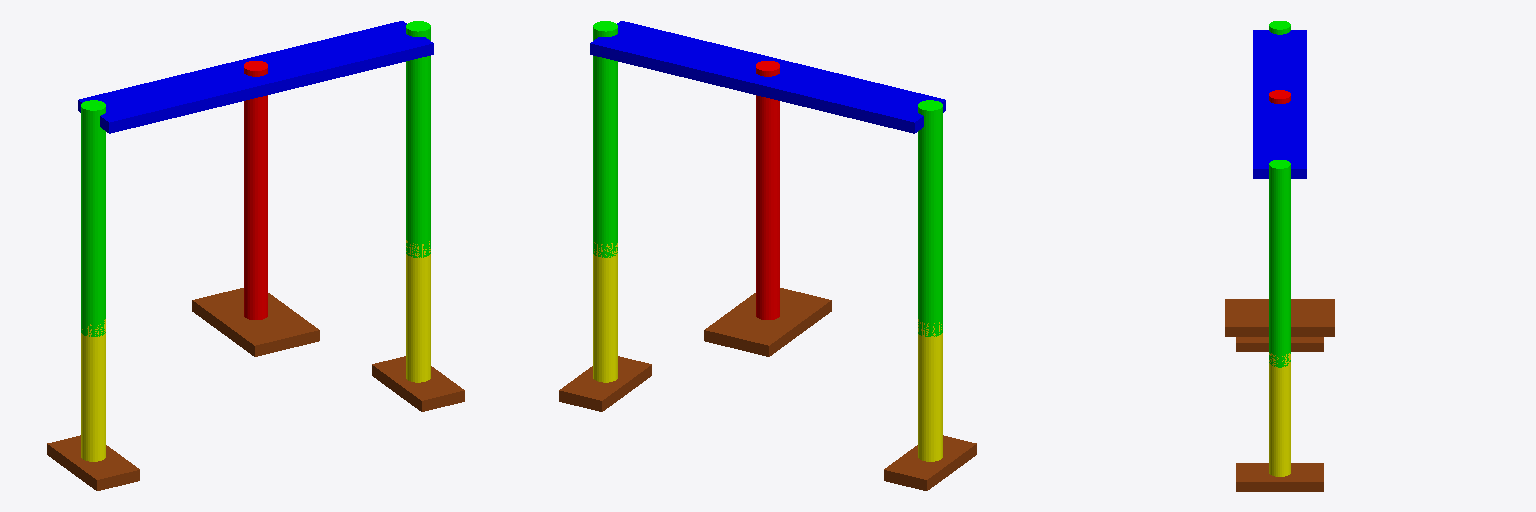
robot.urdf — better_tripedal_robot:
<?xml version="1.0" ?>
<robot name="better_tripedal_robot">

  <!-- Base link -->
  <link name="base_link">
    <inertial>
      <origin xyz="0 0 0" rpy="0 0 0"/>
      <mass value="0.5"/>
      <inertia ixx="0.1" ixy="0" ixz="0" iyy="0.1" iyz="0" izz="0.1"/>
    </inertial>
    <collision>
      <geometry>
        <box size="0.6 0.1 0.02"/>
      </geometry>
    </collision>
    <visual>
      <origin xyz="0 0 0.18" rpy="0 0 0"/>
      <geometry>
        <box size="0.6 0.1 0.02"/>
      </geometry>
      <material name="blue"/>
    </visual>
  </link>

  <!-- Define materials -->
  <material name="blue">
    <color rgba="0 0 1 1"/>
  </material>
  <material name="green">
    <color rgba="0 1 0 1"/>
  </material>
  <material name="yellow">
    <color rgba="1 1 0 1"/>
  </material>
  <material name="red">
    <color rgba="1 0 0 1"/>
  </material>
  <material name="brown">
    <color rgba="0.6 0.3 0.1 1"/>
  </material>

  <!-- Outer Left Leg -->
  <link name="left_leg_upper">
    <inertial>
      <origin xyz="0 0 0" rpy="0 0 0"/>
      <mass value="0.3"/>
      <inertia ixx="0.005" ixy="0" ixz="0.005" iyy="0.005" iyz="0" izz="0.005"/>
    </inertial>
    <collision>
      <geometry>
        <cylinder radius="0.02" length="0.4"/>
      </geometry>
    </collision>
    <visual>
      <geometry>
        <cylinder radius="0.02" length="0.4"/>
      </geometry>
      <material name="green"/>
    </visual>
  </link>

  <link name="left_leg_lower">
    <inertial>
      <origin xyz="0 0 -0.18" rpy="0 0 0"/> <!-- Adjusted to position the lower leg relative to upper leg -->
      <mass value="0.3"/>
      <inertia ixx="0.005" ixy="0" ixz="0.005" iyy="0.005" iyz="0" izz="0.005"/>
    </inertial>
    <collision>
      <geometry>
        <cylinder radius="0.02" length="0.4"/>
      </geometry>
    </collision>
    <visual>
     <origin xyz="0 0 -0.1" rpy="0 0 0"/> 
      <geometry>
        <cylinder radius="0.02" length="0.25"/>
      </geometry>
      <material name="yellow"/>
    </visual>
  </link>

  <joint name="left_knee" type="revolute">
    <parent link="left_leg_upper"/>
    <child link="left_leg_lower"/>
    <origin xyz="0 0 -0.2" rpy="0 0 0"/> <!-- Ensure this aligns with the lower leg's top -->
    <axis xyz="1 0 0"/>
    <limit lower="-2" upper="2" effort="10" velocity="10"/>
  </joint>

  <!-- Outer Right Leg -->
  <link name="right_leg_upper">
    <inertial>
      <origin xyz="0 0 0" rpy="0 0 0"/>
      <mass value="0.3"/>
      <inertia ixx="0.005" ixy="0" ixz="0.005" iyy="0.005" iyz="0" izz="0.005"/>
    </inertial>
    <collision>
      <geometry>
        <cylinder radius="0.02" length="0.4"/>
      </geometry>
    </collision>
    <visual>
      <geometry>
        <cylinder radius="0.02" length="0.4"/>
      </geometry>
      <material name="green"/>
    </visual>
  </link>

  <link name="right_leg_lower">
    <inertial>
      <origin xyz="0 0 -0.18" rpy="0 0 0"/> <!-- Adjusted to position the lower leg relative to upper leg -->
      <mass value="0.3"/>
      <inertia ixx="0.005" ixy="0" ixz="0.005" iyy="0.005" iyz="0" izz="0.005"/>
    </inertial>
    <collision>
      <geometry>
        <cylinder radius="0.02" length="0.4"/>
      </geometry>
    </collision>
    <visual>
     <origin xyz="0 0 -0.1" rpy="0 0 0"/> 
      <geometry>
        <cylinder radius="0.02" length="0.25"/>
      </geometry>
      <material name="yellow"/>
    </visual>
  </link>

  <joint name="right_knee" type="revolute">
    <parent link="right_leg_upper"/>
    <child link="right_leg_lower"/>
    <origin xyz="0 0 -0.2" rpy="0 0 0"/> <!-- Ensure this aligns with the lower leg's top -->
    <axis xyz="1 0 0"/>
    <limit lower="-2" upper="2" effort="10" velocity="10"/>
  </joint>


<!-- Center Leg Part 1 -->
<link name="center_leg_part1">
  <inertial>
    <origin xyz="0 0 0" rpy="0 0 0"/>
    <mass value="0.3"/>
    <inertia ixx="0.0025" ixy="0" ixz="0" iyy="0.0025" iyz="0" izz="0.0025"/>
  </inertial>
  <collision>
    <geometry>
      <cylinder radius="0.02" length="0.1"/>
    </geometry>
  </collision>
  <visual>
    <origin xyz="0 0 -.1" rpy="0 0 0"/>
    <geometry>
      <cylinder radius="0.02" length="0.4"/>
    </geometry>
    <material name="red"/>
  </visual>
</link>

<joint name="center_leg_joint1" type="revolute">
  <parent link="base_link"/>
  <child link="center_leg_part1"/>
  <origin xyz="0 0 0.1" rpy="0 0 0"/>
  <axis xyz="1 0 0"/>
  <limit lower="-1.57" upper="1.57" effort="10" velocity="10"/>
</joint>

<!-- Center Leg Part 2 -->
<link name="center_leg_part2">
  <inertial>
    <origin xyz="0 0 -0.5" rpy="0 0 0"/>
    <mass value="0.5"/>
    <inertia ixx="0.0025" ixy="0" ixz="0.0025" iyy="0.0025" iyz="0" izz="0.0025"/>
  </inertial>
  <collision>
    <geometry>
      <cylinder radius="0.02" length="0.4"/>
    </geometry>
  </collision>
  <visual>
    <geometry>
      <cylinder radius="0.02" length="0.4"/>
    </geometry>
    <material name="red"/>
  </visual>
</link>

<joint name="center_leg_joint2" type="prismatic">
  <parent link="center_leg_part1"/>
  <child link="center_leg_part2"/>
  <origin xyz="0 0 -0.15" rpy="0 0 0"/>
  <axis xyz="0 0 -0.6"/>
  <limit lower="0.0" upper="0.4" effort="10" velocity="10"/>
</joint>

  <link name="center_foot">
    <inertial>
      <origin xyz="0 0 0" rpy="0 0 0"/>
      <mass value="0.5"/>
      <inertia ixx="0.005" ixy="0" ixz="0" iyy="0.005" iyz="0" izz="0.005"/>
    </inertial>
    <collision>
      <geometry>
        <box size="0.12 0.2 0.02"/>
      </geometry>
          <surface>
      <friction>
        <ode>
          <mu>2.0</mu>
          <mu2>2.0</mu2>
        </ode>
      </friction>
      <rolling_friction>
        <ode>
"          <slip1>0.04</slip1>
"          <slip2>0.04</slip2>
        </ode>
      </rolling_friction>
    </surface>
    </collision>
    <visual>
      <geometry>
        <box size="0.12 0.2 0.02"/>
      </geometry>
      <material name="brown"/>
    </visual>
  </link>

  <!-- Feet -->
  <link name="left_foot">
    <inertial>
      <origin xyz="0 0 0" rpy="0 0 0"/>
      <mass value="0.3"/>
      <inertia ixx="0.005" ixy="0" ixz="0" iyy="0.005" iyz="0" izz="0.005"/>
    </inertial>
    <collision>
      <geometry>
        <box size="0.08 0.16 0.02"/>
      </geometry>
          <surface>
      <friction>
        <ode>
          <mu>2.0</mu>
          <mu2>2.0</mu2>
        </ode>
      </friction>
      <rolling_friction>
        <ode>
"          <slip1>0.04</slip1>
"          <slip2>0.04</slip2>
        </ode>
      </rolling_friction>
    </surface>
    </collision>
    <visual>
      <geometry>
        <box size="0.08 0.16 0.02"/>
      </geometry>
      <material name="brown"/>
    </visual>
  </link>

  <link name="right_foot">
    <inertial>
      <origin xyz="0 0 0" rpy="0 0 0"/>
      <mass value="0.3"/>
      <inertia ixx="0.005" ixy="0" ixz="0" iyy="0.005" iyz="0" izz="0.005"/>
    </inertial>
    <collision>
      <geometry>
        <box size="0.08 0.16 0.02"/>
      </geometry>
          <surface>
      <friction>
        <ode>
          <mu>2.0</mu>
          <mu2>2.0</mu2>
        </ode>
      </friction>
      <rolling_friction>
        <ode>
"          <slip1>0.04</slip1>
"          <slip2>0.04</slip2>
        </ode>
      </rolling_friction>
    </surface>
    </collision>
    <visual>
      <geometry>
        <box size="0.08 0.16 0.02"/>
      </geometry>
      <material name="brown"/>
    </visual>
  </link>

  <!-- Joints connecting legs to base -->
  <joint name="left_hip" type="revolute">
    <parent link="base_link"/>
    <child link="left_leg_upper"/>
    <origin xyz="-0.3 0 0" rpy="0 0 0"/>
    <axis xyz="1 0 0"/>
    <limit lower="-1.57" upper="1.57" effort="10" velocity="10"/>
  </joint>

  <joint name="right_hip" type="revolute">
    <parent link="base_link"/>
    <child link="right_leg_upper"/>
    <origin xyz="0.3 0 0" rpy="0 0 0"/>
    <axis xyz="1 0 0"/>
    <limit lower="-1.57" upper="1.57" effort="10" velocity="10"/>
  </joint>

  <!-- Feet joints -->
  <joint name="left_foot_joint" type="revolute">
    <parent link="left_leg_lower"/>
    <child link="left_foot"/>
    <origin xyz="0 0 -0.23" rpy="0 0 0"/>
    <axis xyz="1 0 -0.1"/>
    <limit lower="-1.57" upper="1.57" effort="10" velocity="10"/>
  </joint>

  <joint name="right_foot_joint" type="revolute">
    <parent link="right_leg_lower"/>
    <child link="right_foot"/>
    <origin xyz="0 0 -0.23" rpy="0 0 0"/>
    <axis xyz="1 0 -0.1"/>
    <limit lower="-1.57" upper="1.57" effort="10" velocity="10"/>
  </joint>

<joint name="center_foot_joint" type="revolute">
  <parent link="center_leg_part2"/>
  <child link="center_foot"/>
  <origin xyz="0 0 -0.2" rpy="0 0 0"/>
  <axis xyz="1 0 0"/>
  <limit lower="-1.57" upper="1.57" effort="10" velocity="10"/>
</joint>

</robot>

--- Render facts (derived) ---
The picture shows the robot from 3 angles, left to right: view 1: azimuth 30°, elevation 25°; view 2: azimuth 150°, elevation 25°; view 3: azimuth 270°, elevation 25°; orthographic projection.
Robot: better_tripedal_robot — 10 links, 9 joints (8 revolute, 1 prismatic); root link base_link; default pose: all joints at 0.
Links seen in each view (by area): view 1: base_link, left_leg_upper, right_leg_upper, center_foot, center_leg_part1, right_leg_lower, left_leg_lower, right_foot, left_foot, center_leg_part2; view 2: base_link, left_leg_upper, right_leg_upper, center_foot, center_leg_part1, right_leg_lower, left_leg_lower, right_foot, left_foot, center_leg_part2; view 3: base_link, right_leg_upper, center_foot, right_leg_lower, right_foot, left_foot.
Boxes of the visible links, x1,y1,x2,y2 form: base_link: (78, 21, 433, 133); left_leg_upper: (81, 100, 105, 336); right_leg_upper: (406, 21, 430, 257); center_foot: (192, 288, 319, 356); center_leg_part1: (244, 61, 267, 297); right_leg_lower: (406, 240, 430, 382); left_leg_lower: (81, 319, 105, 461); right_foot: (372, 356, 464, 411); left_foot: (47, 435, 139, 490); center_leg_part2: (244, 97, 267, 319); base_link: (590, 21, 945, 133); left_leg_upper: (918, 100, 942, 336); right_leg_upper: (593, 21, 617, 257); center_foot: (704, 288, 831, 356); center_leg_part1: (756, 61, 779, 297); right_leg_lower: (593, 242, 617, 382); left_leg_lower: (918, 319, 942, 461); right_foot: (559, 356, 651, 411); left_foot: (884, 435, 976, 490); center_leg_part2: (756, 96, 779, 319); base_link: (1253, 30, 1306, 178); right_leg_upper: (1269, 160, 1290, 367); center_foot: (1225, 299, 1334, 336); right_leg_lower: (1269, 353, 1290, 476); right_foot: (1236, 463, 1323, 491); left_foot: (1236, 337, 1323, 351).
Size in the robot's own frame: 0.68 by 0.2 by 0.64 metres.
Geometry: primitives only (box / cylinder / sphere), no mesh files.